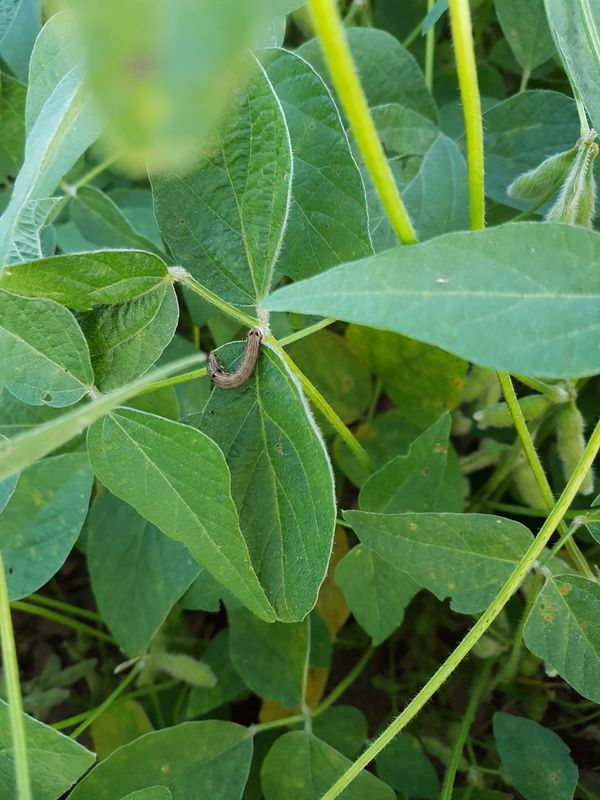Spodoptera_albula: (197, 316, 273, 398)
